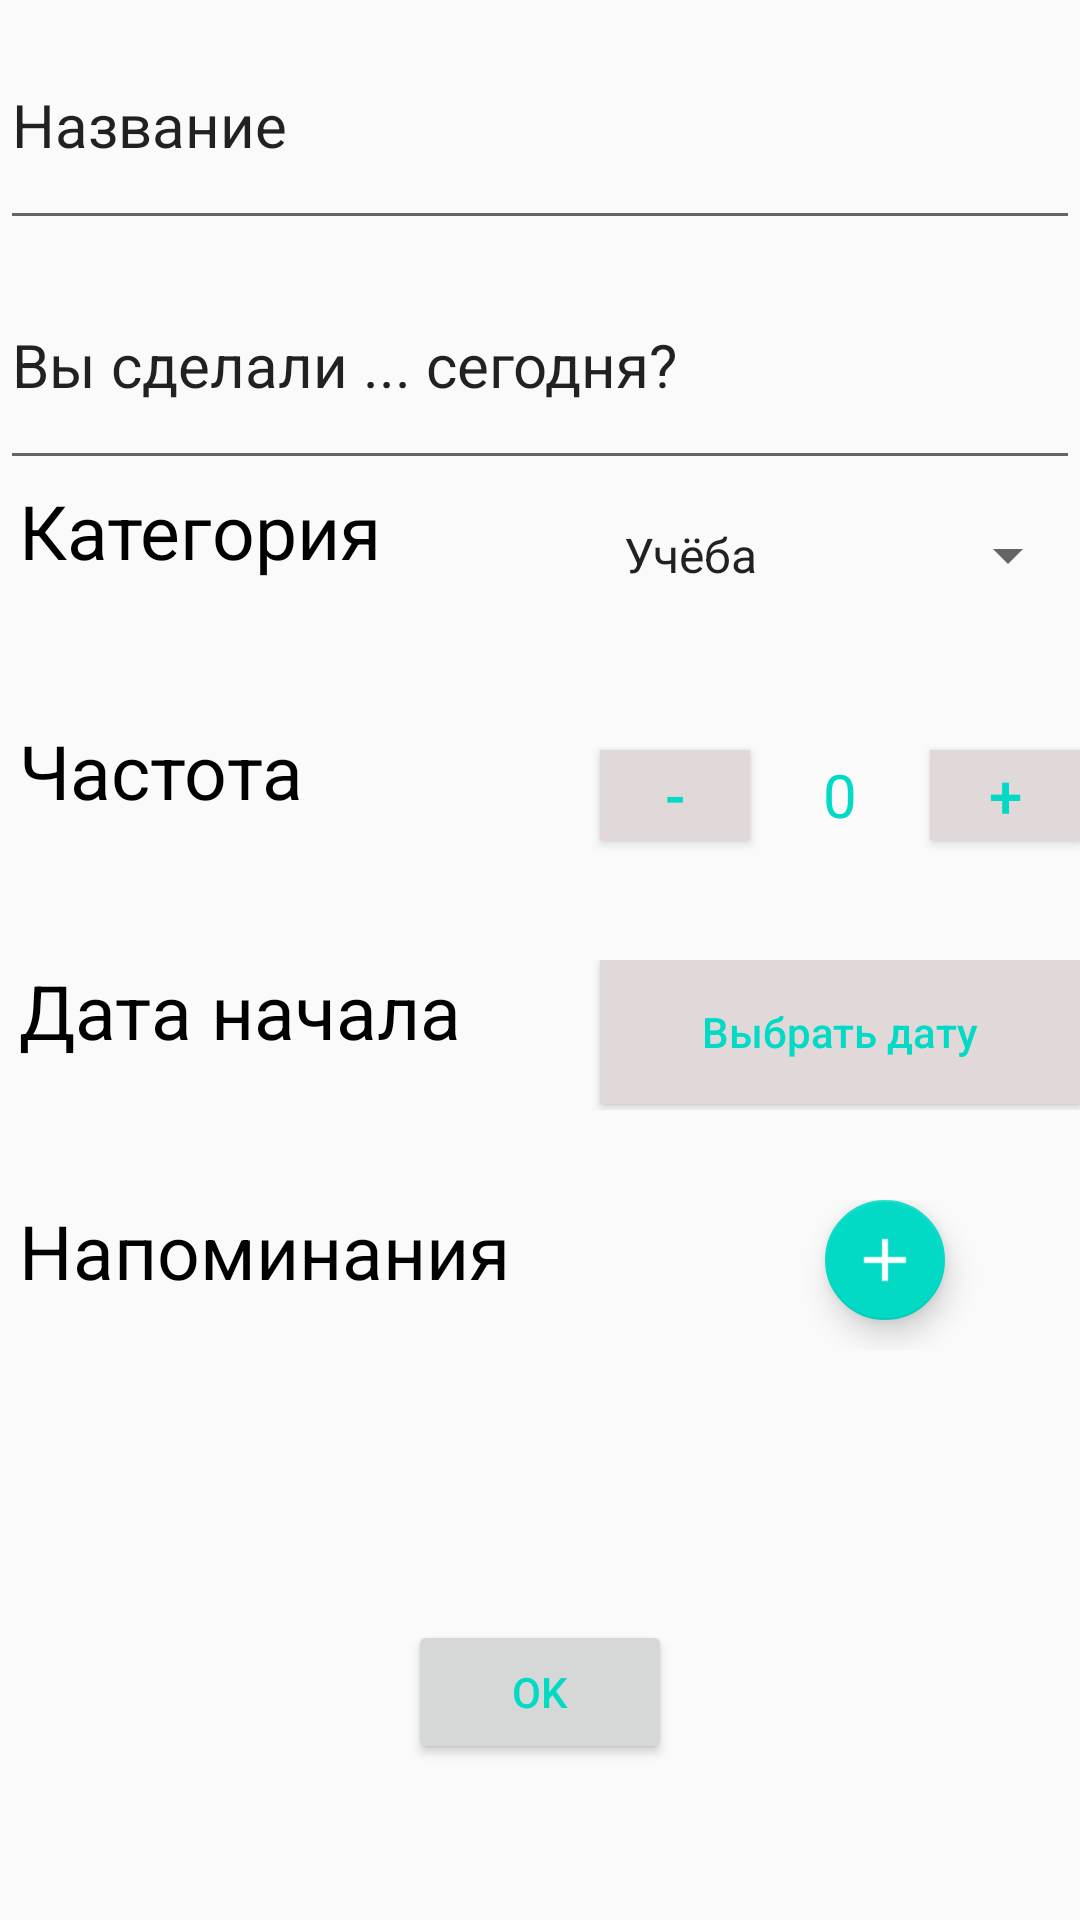

Named icons in this screenshot (1080x1920) and their centers, (x,y):
plus: (885,1260)
